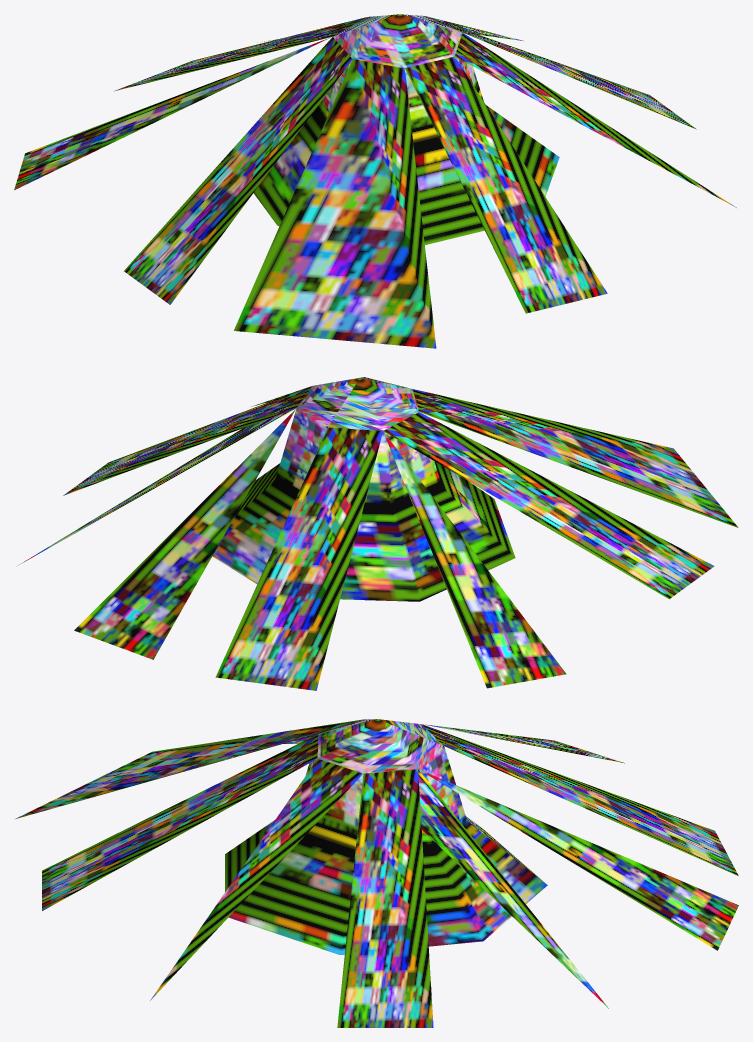
The model's file is spider_egg_base.glb.
3 views of the same model, one above another, from view 1: azimuth 30°, elevation 25°; view 2: azimuth 150°, elevation 25°; view 3: azimuth 270°, elevation 25° (orthographic). The views are drawn at different scales.
Visible parts, largest first — view 1: MeshRoot; view 2: MeshRoot; view 3: MeshRoot.
Boxes of the visible parts, x1=… form: MeshRoot: x1=14, y1=14, x2=736, y2=348; MeshRoot: x1=18, y1=377, x2=738, y2=690; MeshRoot: x1=15, y1=719, x2=738, y2=1027.
Size of the model in its own units: 3.98 by 1.12 by 4.27.
1 material, 1 textured.
